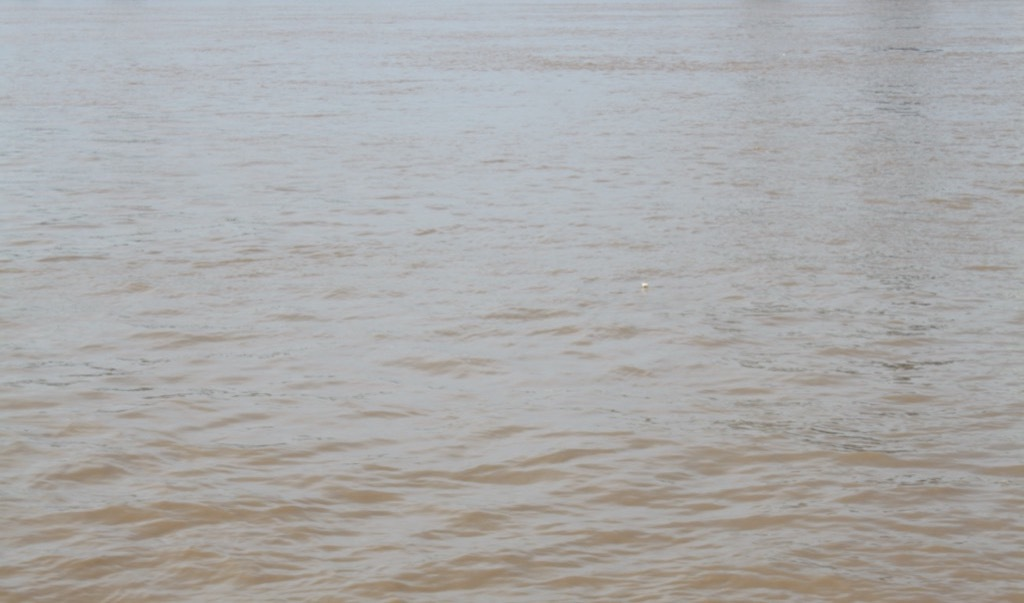plastic: (635, 274, 655, 300)
